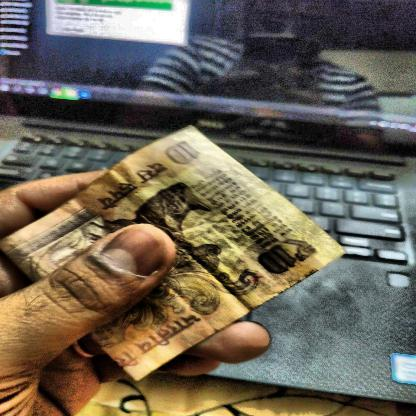Rs10: (248, 227, 328, 283), (155, 135, 210, 171)
